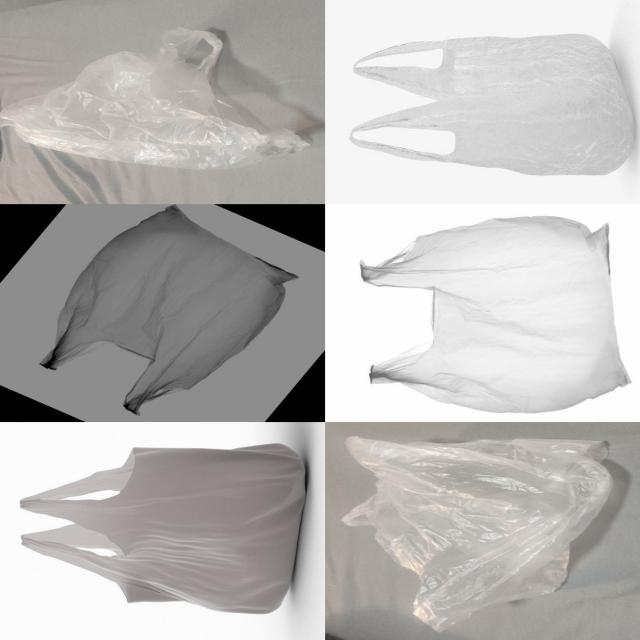plastik: (41, 206, 297, 415), (361, 217, 630, 413), (343, 437, 612, 631), (21, 444, 306, 614), (0, 29, 310, 170), (350, 35, 634, 175)
